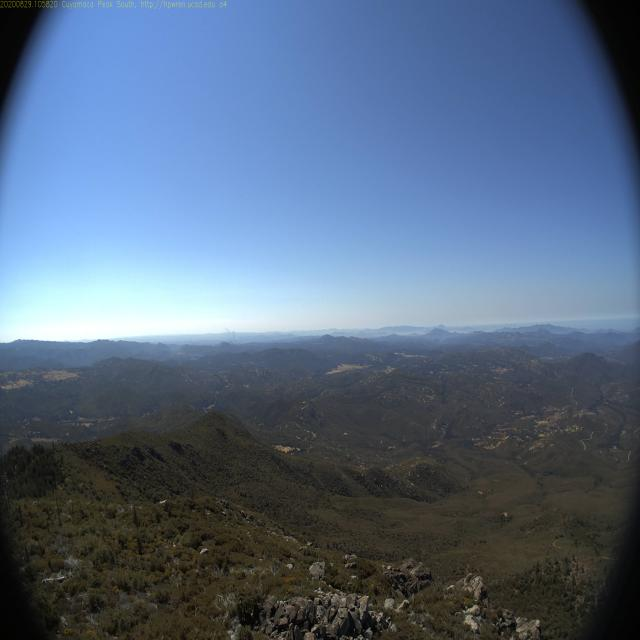smoke: (220, 324, 237, 346)
